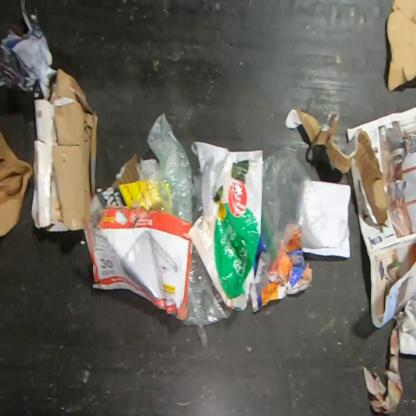cardboard: (82, 206, 194, 321), (284, 108, 388, 230), (30, 69, 99, 235), (90, 152, 140, 224), (385, 0, 416, 95)
soft_plastic: (188, 140, 264, 312), (128, 112, 204, 224), (262, 141, 328, 266), (183, 247, 235, 348)
